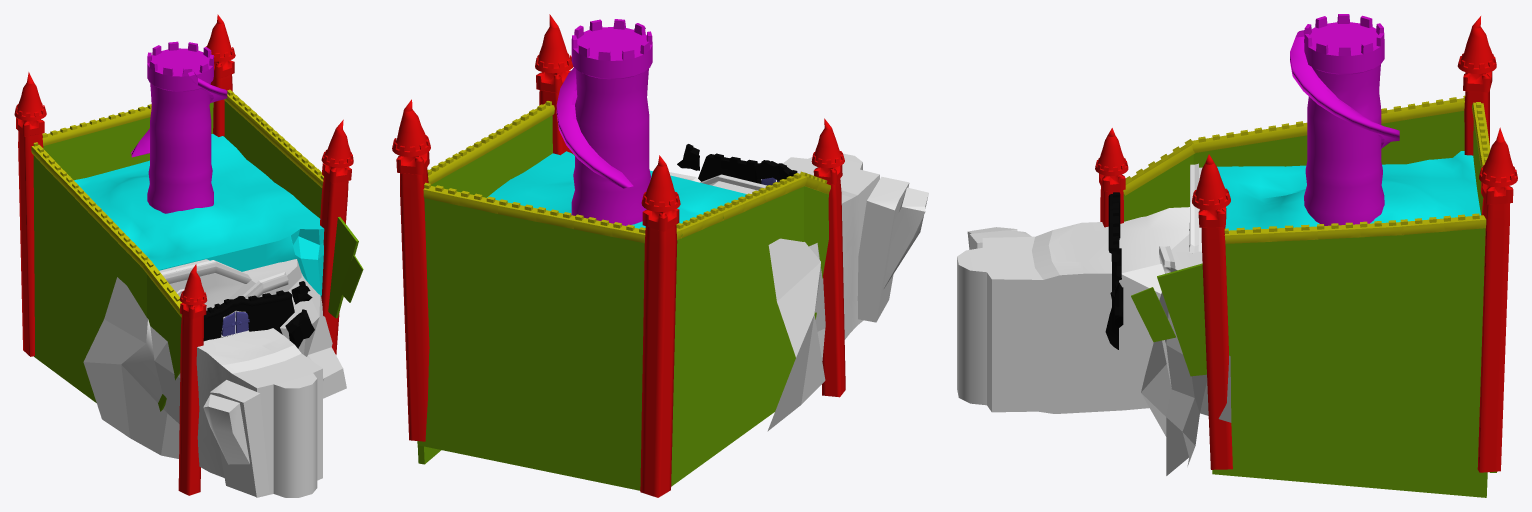
File: B&S Level 2.fbx
3 views of the same model, side by side, from view 1: azimuth 30°, elevation 25°; view 2: azimuth 150°, elevation 25°; view 3: azimuth 270°, elevation 25° (orthographic). The views are drawn at different scales.
Parts seen in each view (by area): view 1: Entrance, Ground, lWall, MainTower, Tower4, Tower3, bWall, Tower1, rWall, entranceRubble, Gate, entranceRubble1 (+13 smaller); view 2: bWall, lWall, MainTower, Entrance, Tower3, Tower2, Tower4, Ground, entranceRubble, rWall, Tower1, entranceRubble1 (+10 smaller); view 3: rWall, Entrance, MainTower, Ground, Tower2, lWall, Tower1, rWallrubble, Tower3, Tower4, Wallbit12, rWallrubble1 (+6 smaller).
Part boxes in pixels (x1,y1,x2,y2): Entrance: (83, 259, 346, 497); Ground: (74, 134, 324, 296); lWall: (33, 155, 181, 411); MainTower: (131, 41, 227, 213); Tower4: (178, 264, 207, 495); Tower3: (14, 72, 46, 356); bWall: (43, 102, 213, 180); Tower1: (320, 119, 353, 354); rWall: (224, 101, 322, 218); entranceRubble: (209, 380, 269, 497); Gate: (203, 290, 294, 341); entranceRubble1: (203, 394, 249, 464); bWall: (417, 198, 644, 490); lWall: (671, 186, 828, 486); MainTower: (556, 19, 652, 225); Entrance: (669, 153, 879, 431); Tower3: (640, 155, 680, 497); Tower2: (392, 99, 430, 441); Tower4: (811, 118, 845, 397); Ground: (487, 151, 746, 228); entranceRubble: (857, 176, 909, 322); rWall: (417, 115, 552, 464); Tower1: (535, 14, 573, 155); entranceRubble1: (883, 187, 928, 288); rWall: (1212, 228, 1487, 497); Entrance: (957, 163, 1231, 475); MainTower: (1290, 14, 1399, 225); Ground: (1217, 151, 1480, 230); Tower2: (1477, 127, 1517, 472); lWall: (1123, 111, 1464, 221); Tower1: (1192, 154, 1232, 469); rWallrubble: (1157, 263, 1206, 376); Tower3: (1457, 16, 1496, 155); Tower4: (1095, 128, 1128, 227); Wallbit12: (1224, 224, 1318, 243); rWallrubble1: (1131, 287, 1175, 342).
Bounding box in the file's own units: 16.65 × 22.77 × 27.67.
